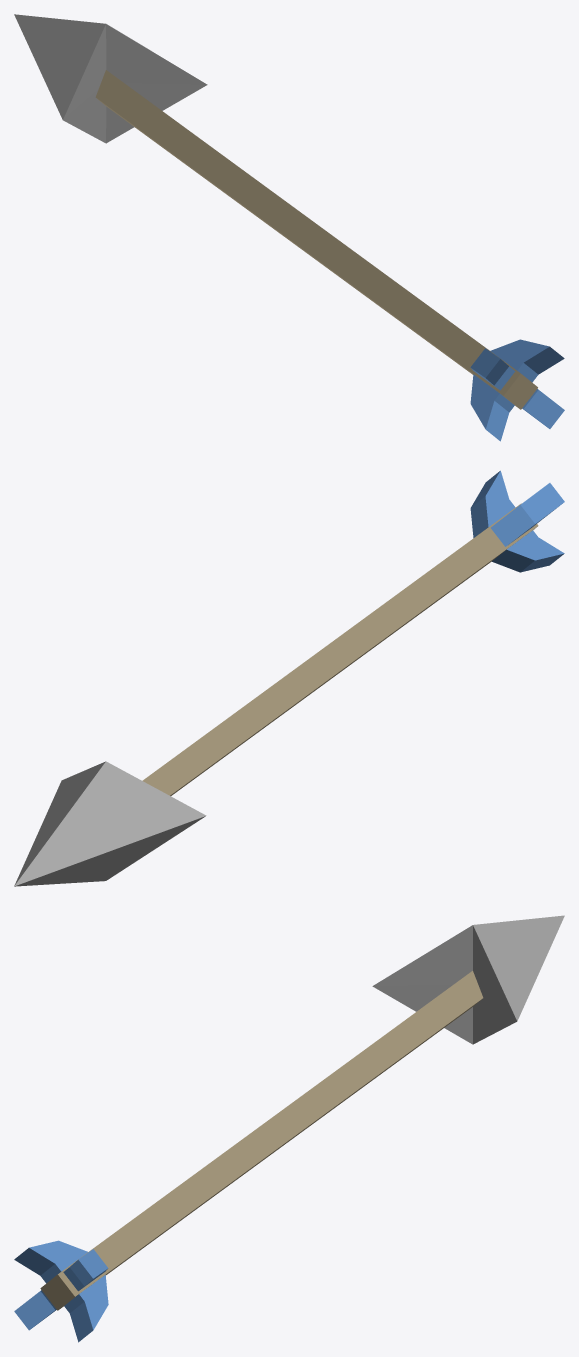
The model's file is arrow.fbx.
3 views of the same model, one above another, from view 1: azimuth 30°, elevation 25°; view 2: azimuth 150°, elevation 25°; view 3: azimuth 330°, elevation 25° (orthographic).
Parts seen in each view (by area): view 1: Arrow; view 2: Arrow; view 3: Arrow.
Part boxes in pixels (x1=…): Arrow: x1=14, y1=14, x2=564, y2=441; Arrow: x1=14, y1=470, x2=564, y2=886; Arrow: x1=14, y1=915, x2=564, y2=1342.
Bounding box in the file's own units: 153 × 120 × 931.
